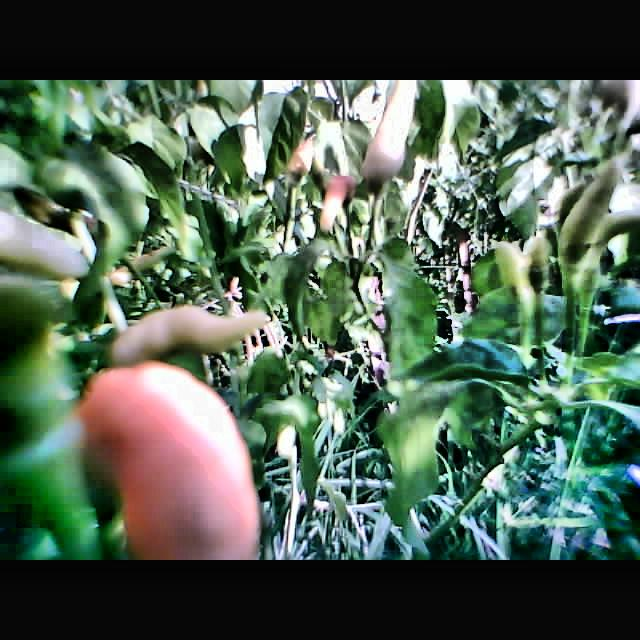Cabai: (90, 368, 276, 559), (313, 167, 362, 241)
